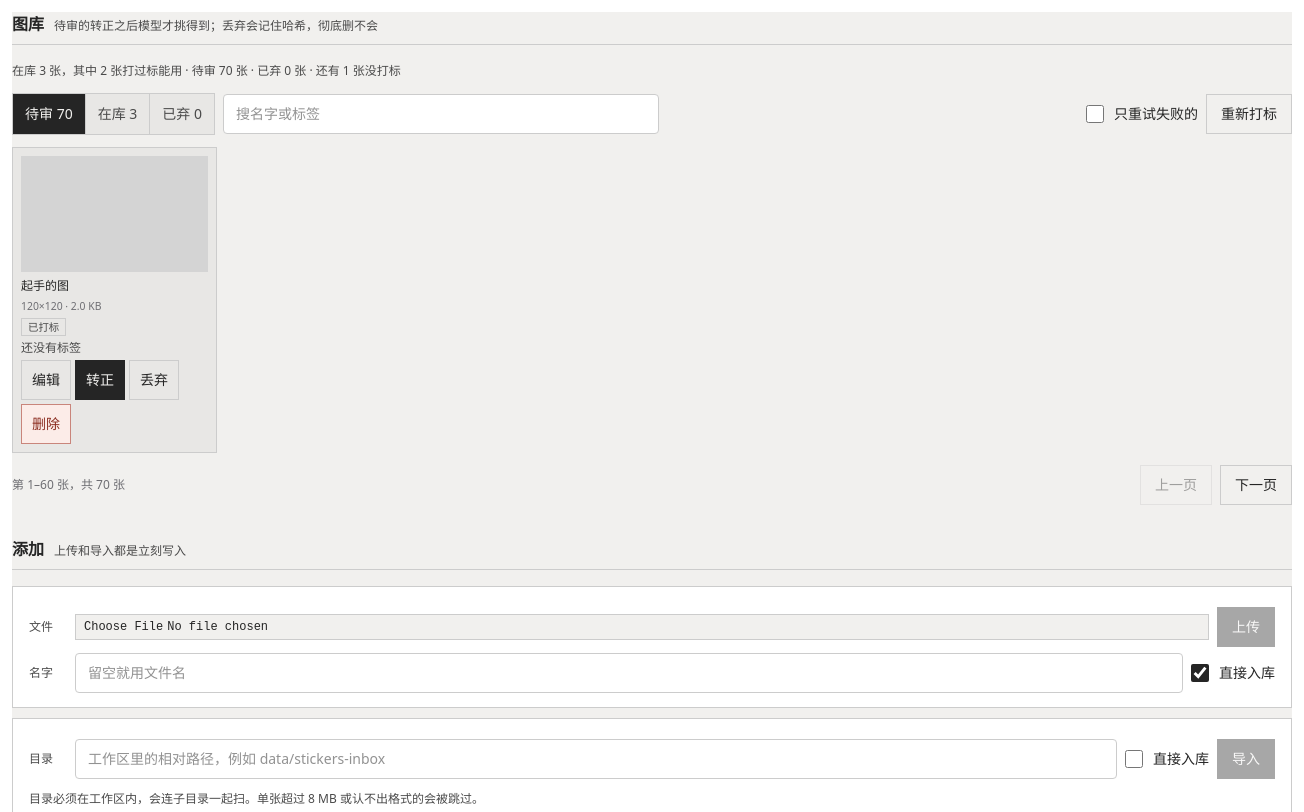
Scenario: 图库只认最后发出的那次读 › 搜索：慢回来的上一个词不覆盖新搜出来的
Type "猫" into the field with placeholder "搜名字或标签" at x=441, y=114, box x1=223 y1=94 x2=660 y2=134
Wait 300 ms
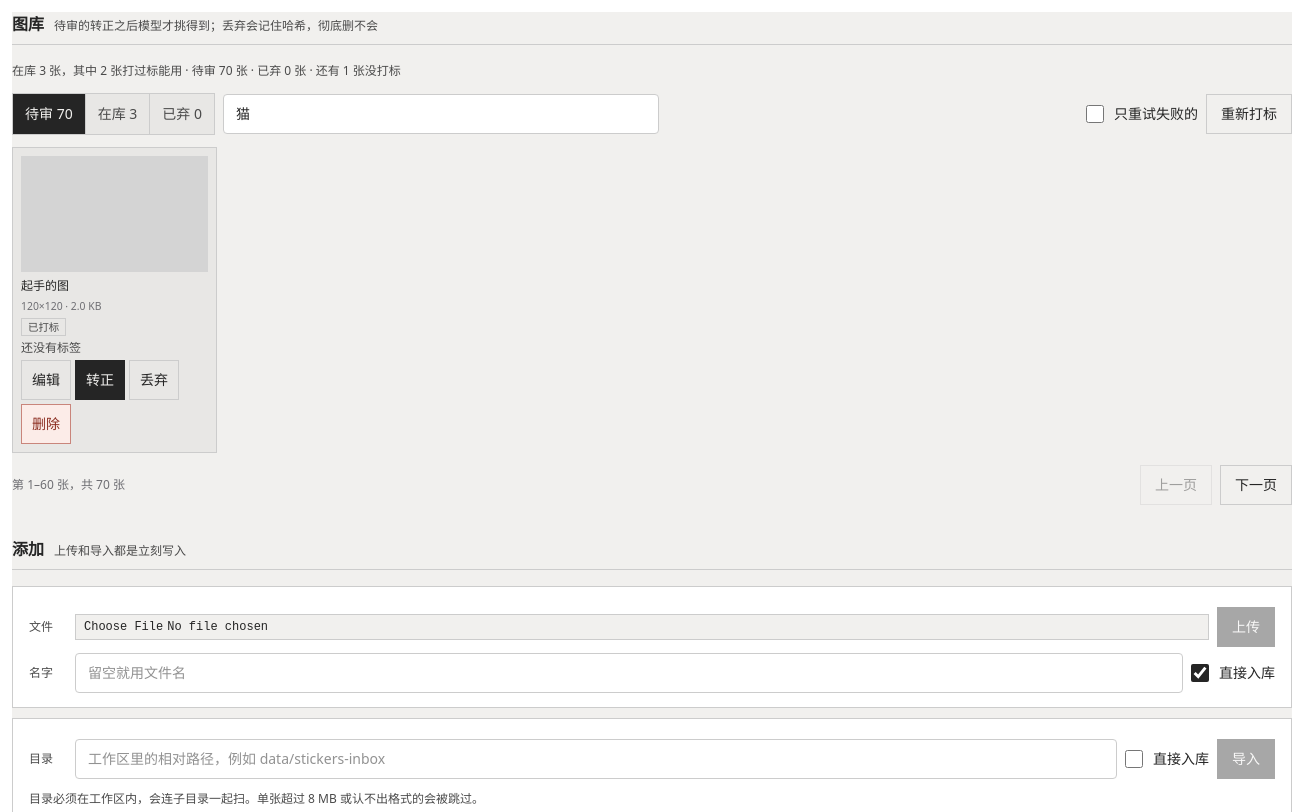
Replace the text in the field with placeholder "搜名字或标签" with "狗" at x=441, y=114, box x1=223 y1=94 x2=660 y2=134
Wait 300 ms
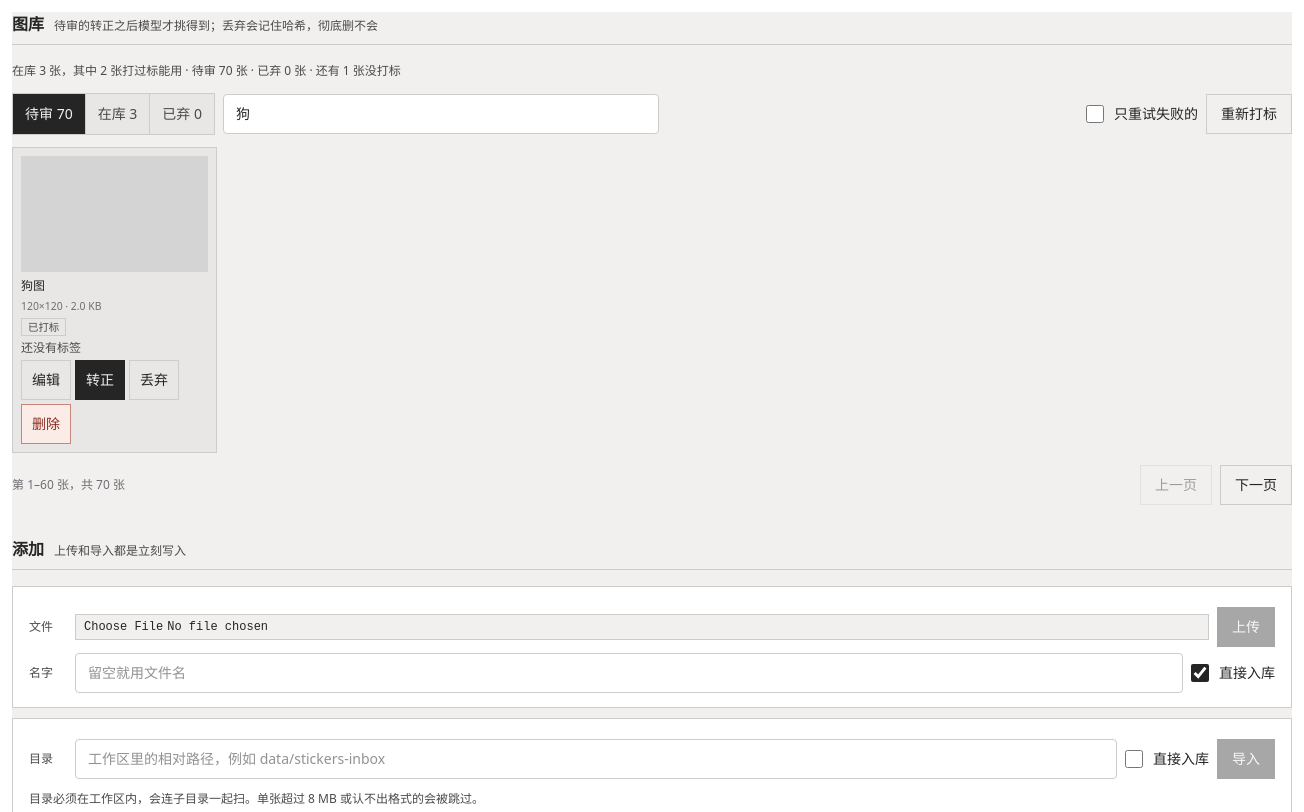
Expected: the button "待审 70" is shown, x1=13 y1=94 x2=85 y2=134
Now the text "狗图" is shown, box x1=21 y1=277 x2=45 y2=294
